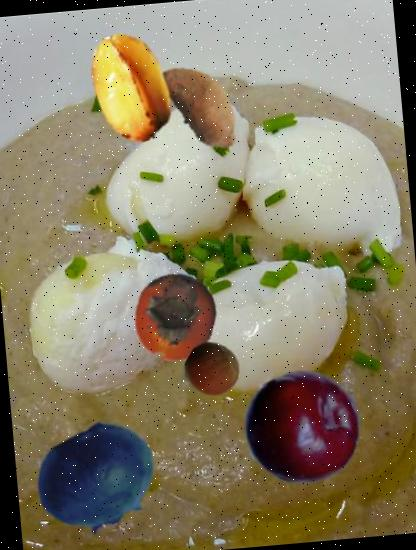Carambula: (72, 28, 192, 148)
Huckleberry: (32, 412, 162, 544)
Kaki: (128, 270, 224, 366)
Nut: (183, 340, 242, 400)
Plum: (238, 364, 367, 492)
Potato: (146, 48, 260, 162)
